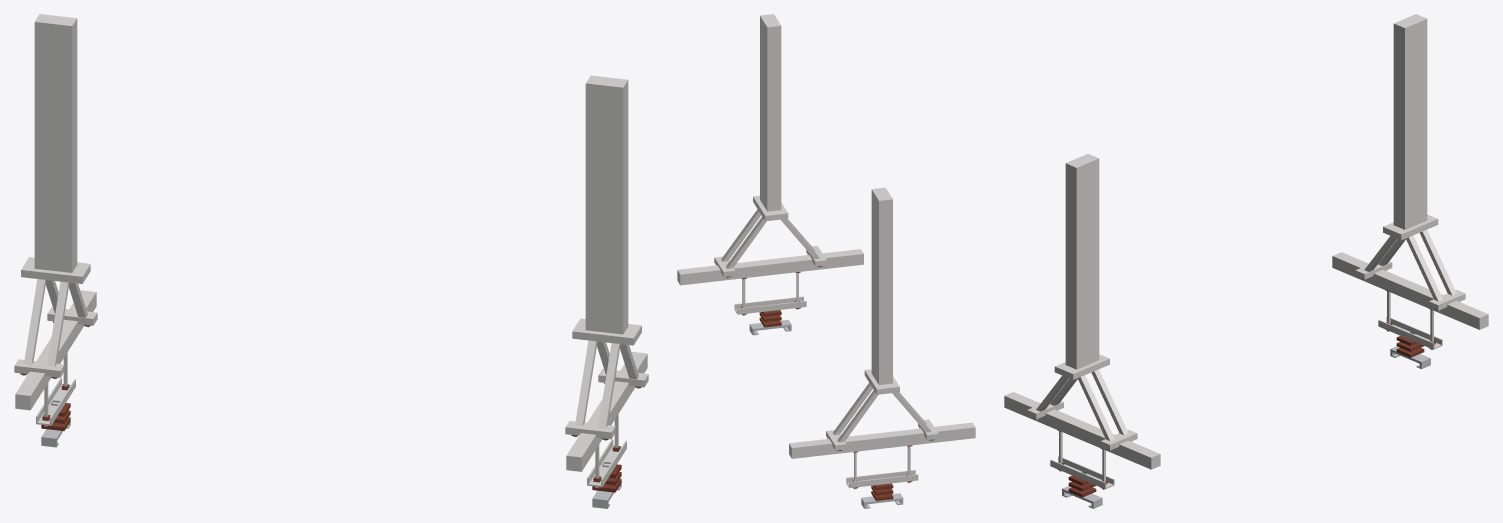
Rendered from catenary_rigid_45d_p.obj.
3 views of the same model, side by side, from view 1: azimuth 30°, elevation 25°; view 2: azimuth 150°, elevation 25°; view 3: azimuth 270°, elevation 25° (orthographic). The views are drawn at different scales.
Visible parts, largest first — view 1: rigid_catenary_node.001, rigid_catenary_node.002; view 2: rigid_catenary_node.001, rigid_catenary_node.002; view 3: rigid_catenary_node.002, rigid_catenary_node.001.
Part boxes in pixels (x1=…): rigid_catenary_node.001: x1=565, y1=75, x2=648, y2=508; rigid_catenary_node.002: x1=14, y1=14, x2=97, y2=447; rigid_catenary_node.001: x1=677, y1=14, x2=863, y2=335; rigid_catenary_node.002: x1=789, y1=187, x2=975, y2=508; rigid_catenary_node.002: x1=1332, y1=14, x2=1488, y2=369; rigid_catenary_node.001: x1=1004, y1=154, x2=1160, y2=508.
Size of the model in its own units: 2.34 by 1.8 by 2.33.
2 materials, 2 textured.
